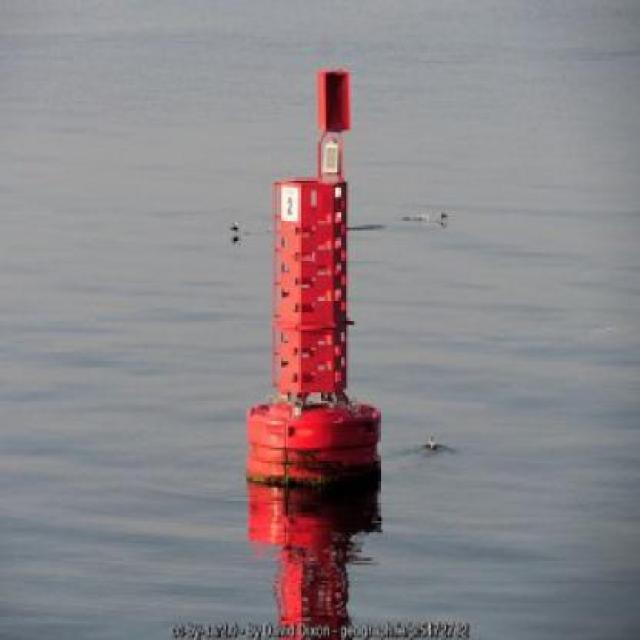buoy: (236, 59, 393, 503)
